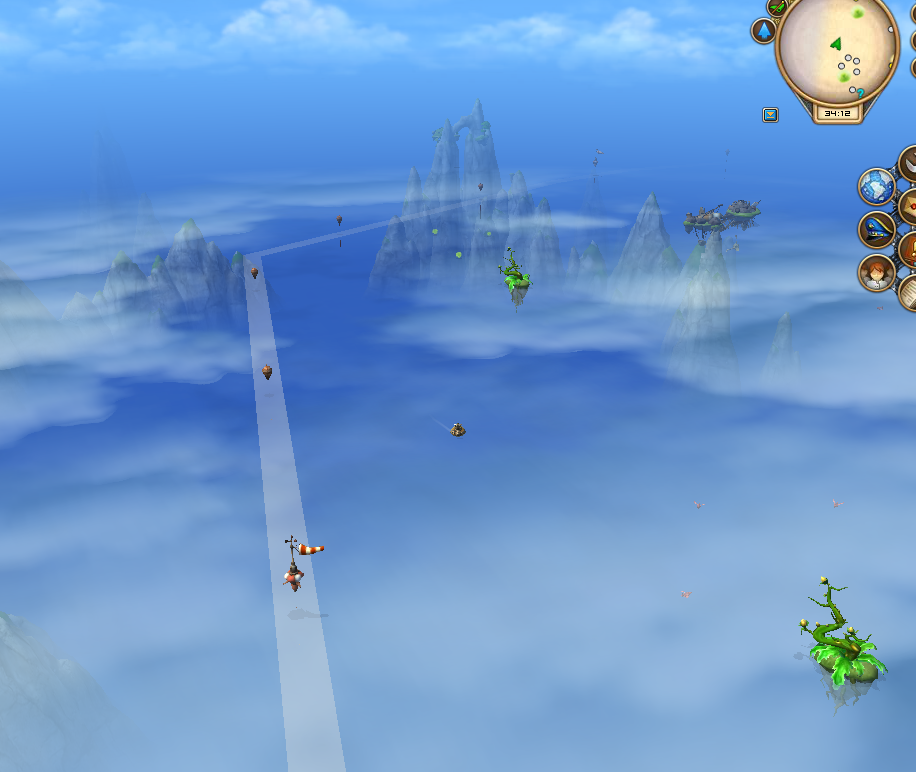dandelion-empty: (793, 567, 896, 711), (496, 243, 533, 309)
fluff: (455, 251, 463, 261), (431, 227, 439, 237), (486, 230, 492, 238)
